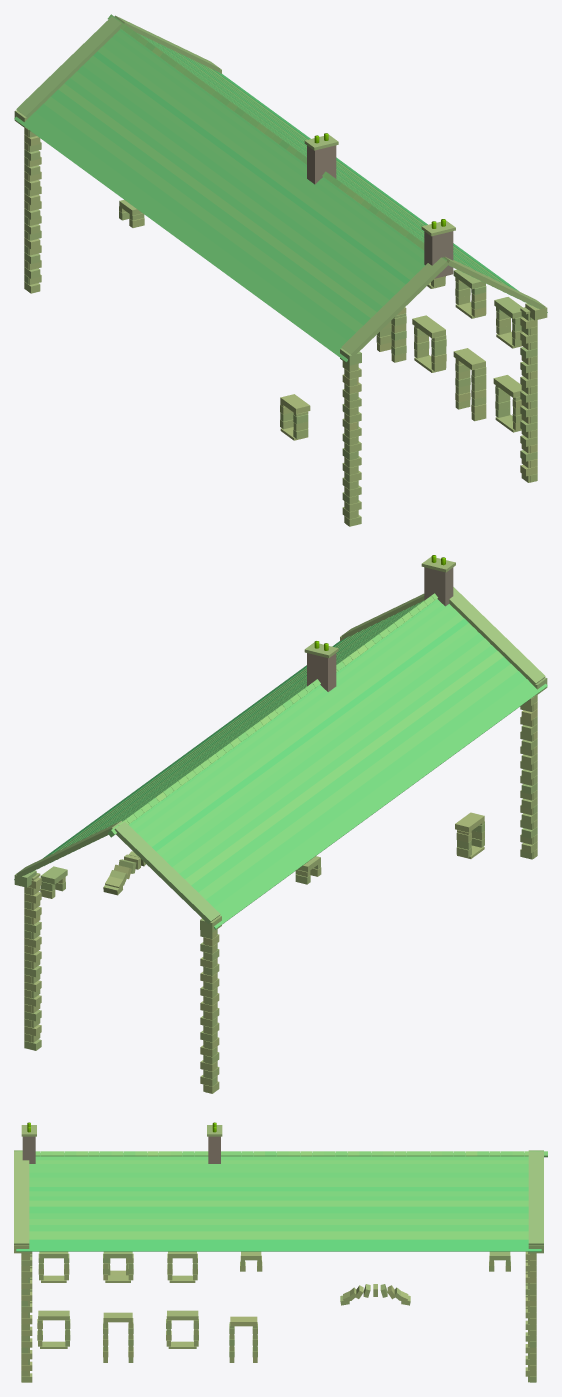
The model's file is SM_Bld_039_Stone.glb.
3 views of the same model, one above another, from view 1: azimuth 30°, elevation 25°; view 2: azimuth 150°, elevation 25°; view 3: azimuth 270°, elevation 25° (orthographic). The views are drawn at different scales.
Visible parts, largest first — view 1: SM_Bld_039_Stone; view 2: SM_Bld_039_Stone; view 3: SM_Bld_039_Stone.
Boxes of the visible parts, x1,y1,x2,y2 form: SM_Bld_039_Stone: (14, 14, 547, 526); SM_Bld_039_Stone: (14, 555, 547, 1093); SM_Bld_039_Stone: (14, 1122, 547, 1382).
Bounding box in the file's own units: 8.61 × 11.37 × 24.9.
